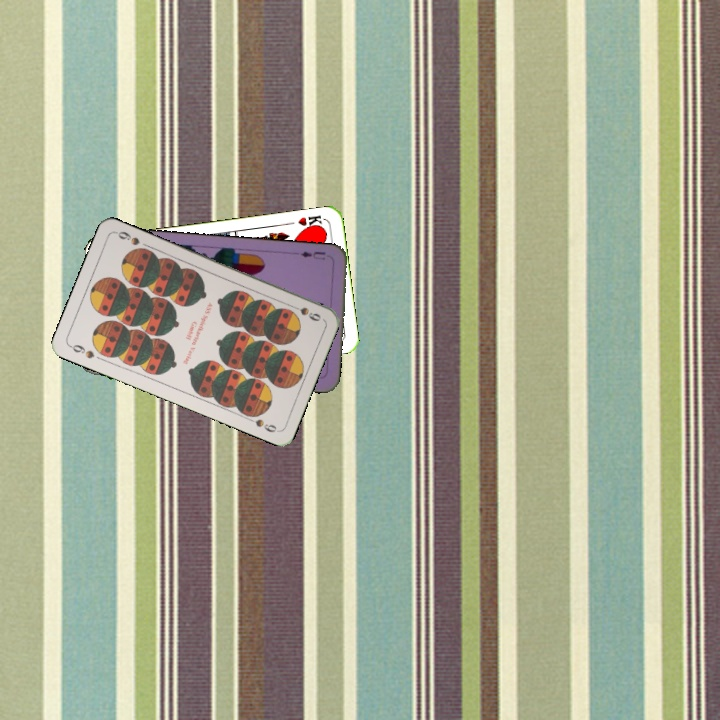EU: (297, 247, 328, 263)
HK: (294, 211, 327, 232)
S9: (286, 300, 324, 324), (66, 340, 97, 361)
